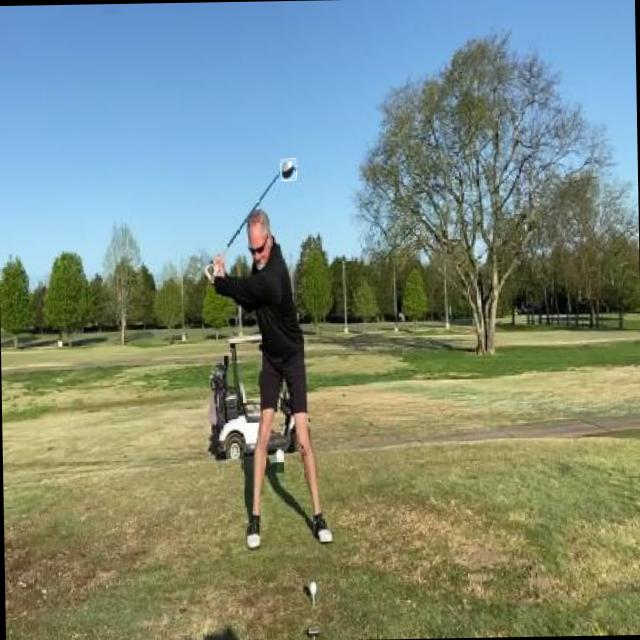club head: (280, 158, 296, 180)
